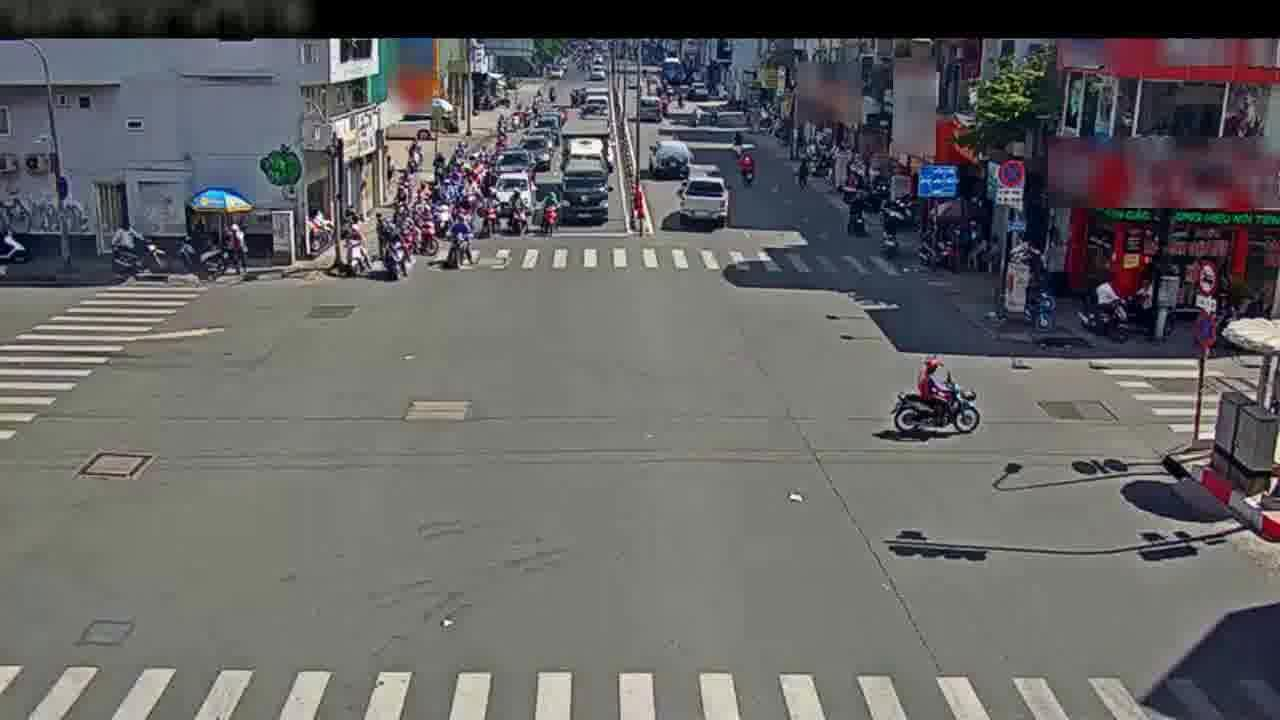container: (682, 171, 728, 231), (652, 138, 696, 185)
motorbike: (892, 354, 982, 438), (332, 214, 374, 282), (378, 221, 413, 285), (446, 211, 476, 272), (479, 187, 511, 242), (500, 186, 529, 241), (412, 204, 438, 264), (842, 189, 868, 243), (533, 187, 558, 243), (791, 143, 816, 191), (736, 145, 755, 185)
